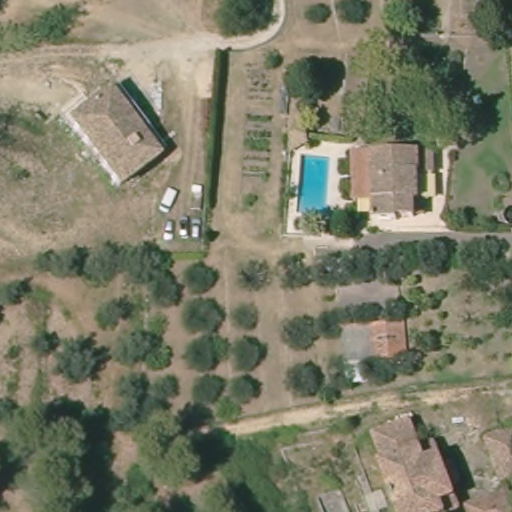pool: (291, 151, 338, 231)
